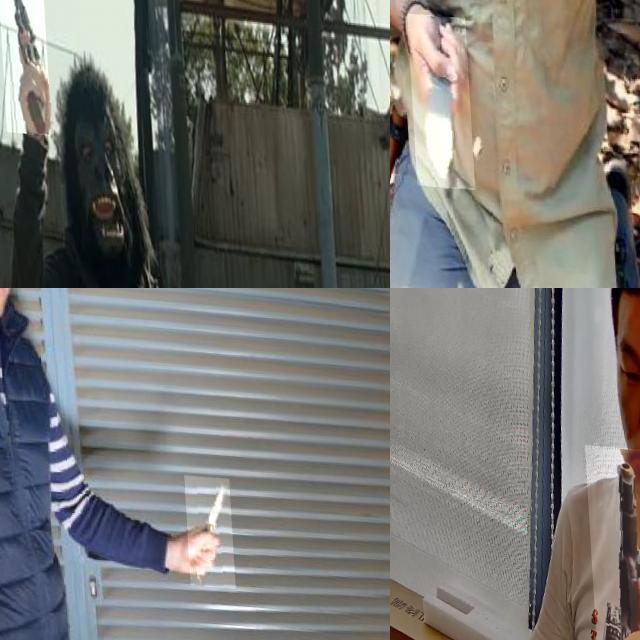-: (404, 10, 470, 186), (181, 470, 231, 582)
gun-knife-thesis - v11 Yolov5 augmented: (581, 439, 640, 640), (0, 0, 49, 132)
